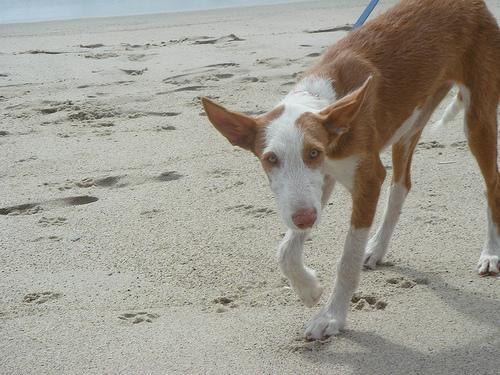Ibizan_hound: (199, 0, 498, 341)
